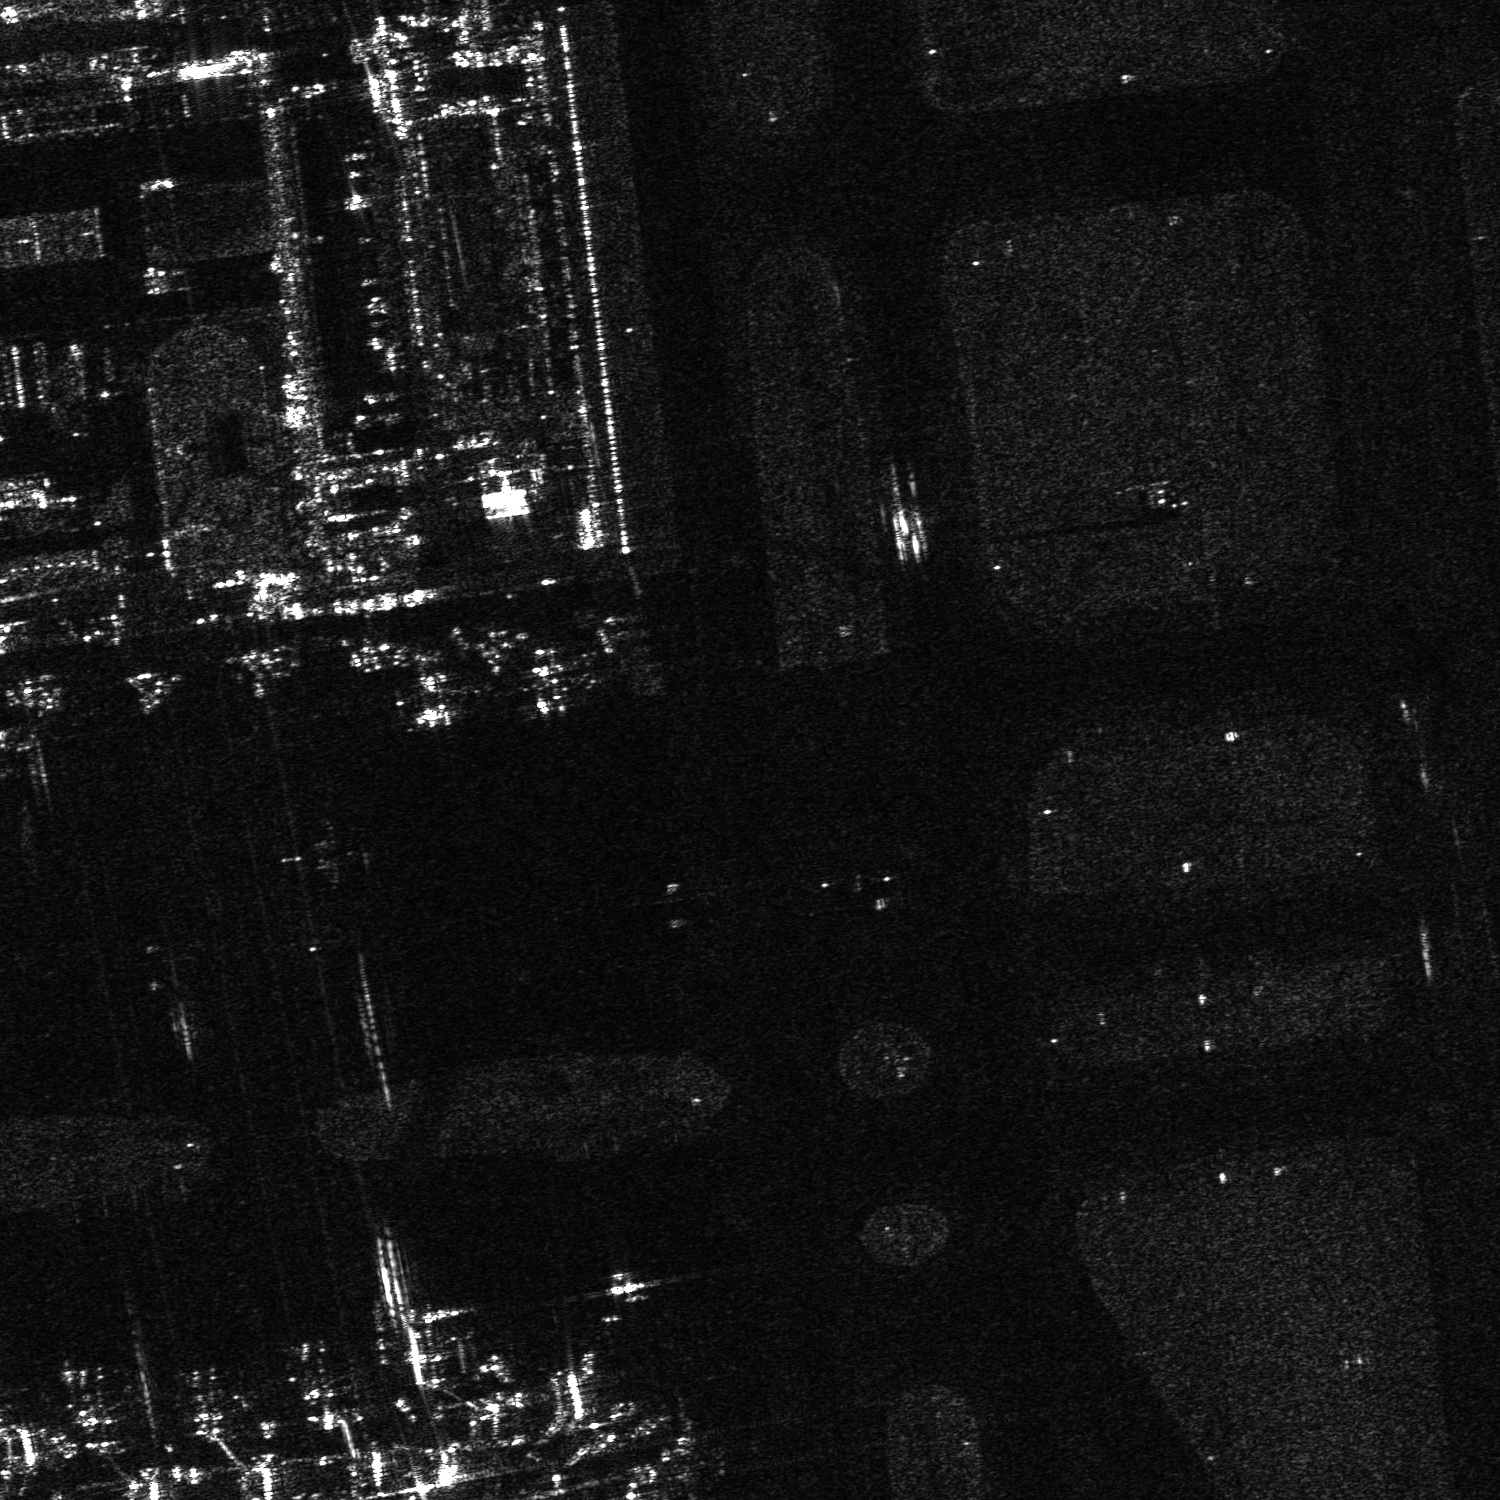A220: (56, 1364, 137, 1455), (172, 1361, 253, 1445), (282, 1339, 352, 1427)
Boeing737: (389, 665, 477, 723)
Boeing787: (505, 639, 596, 717)
